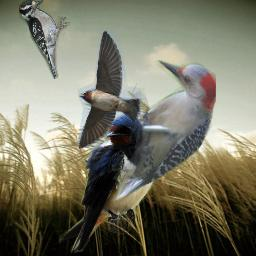Swallow: (59, 113, 161, 256), (78, 30, 141, 149)
Woodpecker: (112, 60, 216, 204), (19, 0, 70, 79)
